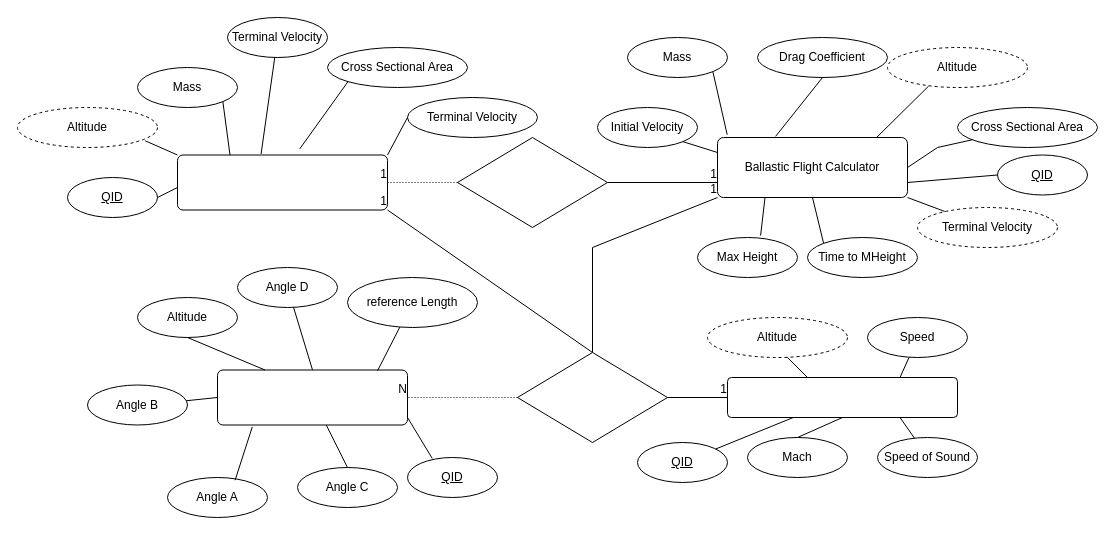
Image size: 1115x535. Some labels were removed from this diagram. The shapes that lost their labels are listed below. From the top down, each one's centre as x and y in pixels, then its label:
(x=282, y=182): Terminal Velocity Calculator
(x=532, y=182): Calculate Terminal Velocity
(x=312, y=397): Rocket Altitude Calculator
(x=592, y=397): Calculate Altitude
(x=842, y=397): Mach & Speed of Sound Calculator
